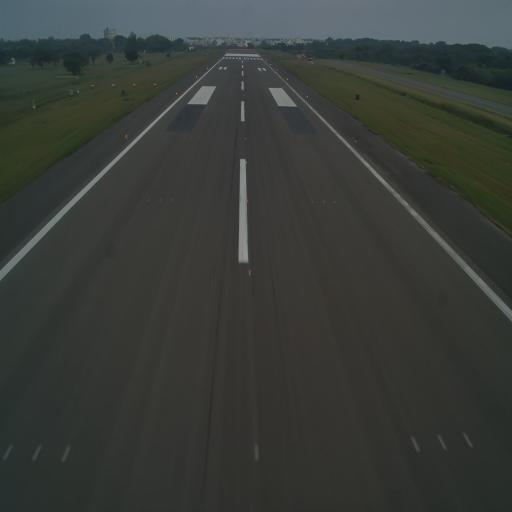off: (407, 428, 425, 458), (58, 438, 76, 466), (30, 438, 47, 464), (460, 428, 477, 450), (1, 442, 15, 465), (433, 431, 448, 452), (158, 196, 163, 206), (310, 198, 316, 206), (332, 198, 338, 206), (170, 196, 175, 205), (146, 196, 152, 203), (352, 135, 356, 144), (182, 134, 187, 141), (190, 134, 194, 141), (284, 136, 288, 143), (322, 198, 326, 205), (291, 136, 294, 144), (298, 137, 302, 143), (198, 135, 201, 139)
on: (246, 263, 254, 280), (122, 131, 130, 140), (244, 159, 248, 167), (246, 196, 249, 206), (244, 135, 247, 143)
